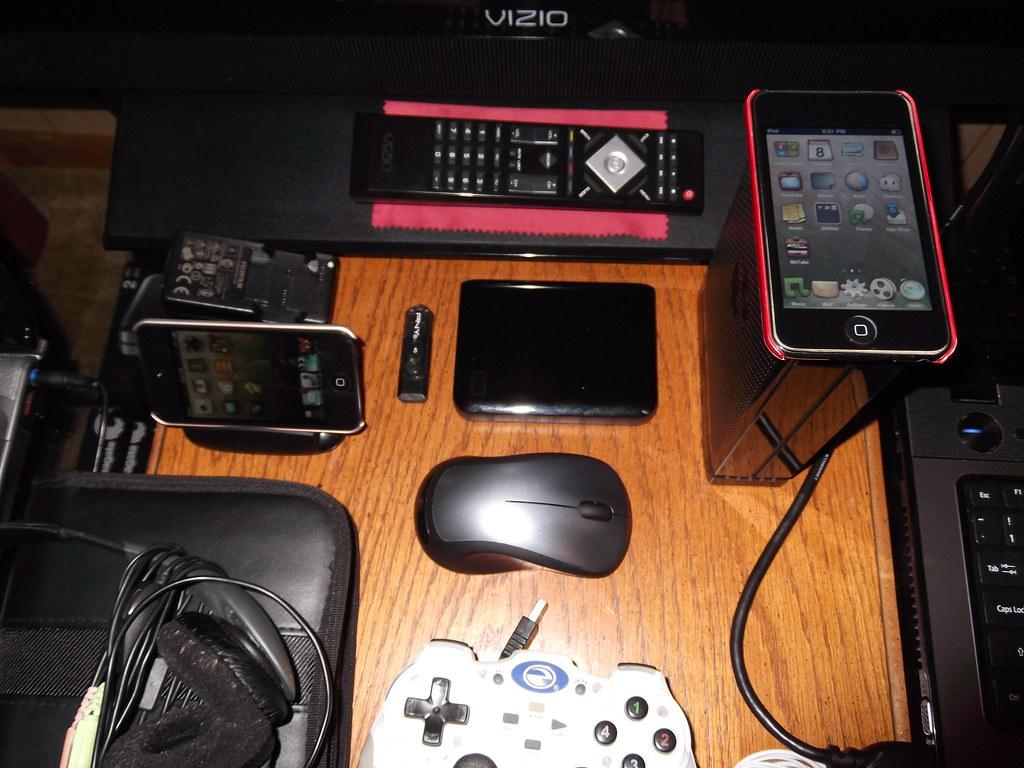computer: (3, 3, 1022, 767), (881, 376, 1023, 767)
